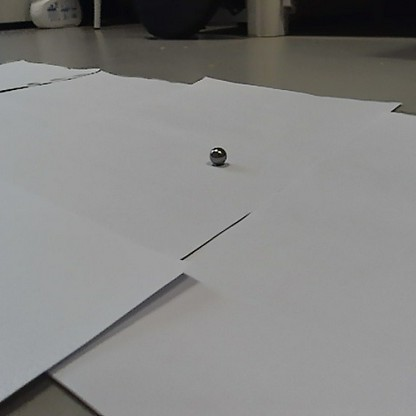ironball: (207, 141, 230, 165)
